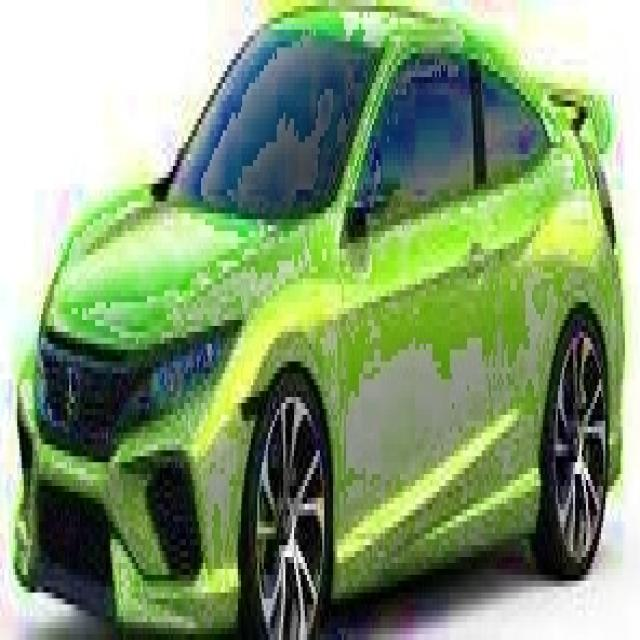green: (16, 0, 622, 640)
